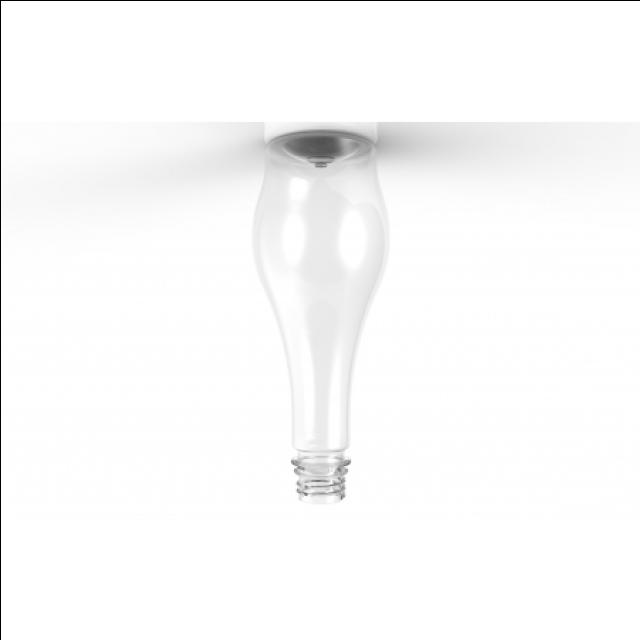bottle: (252, 131, 388, 501)
